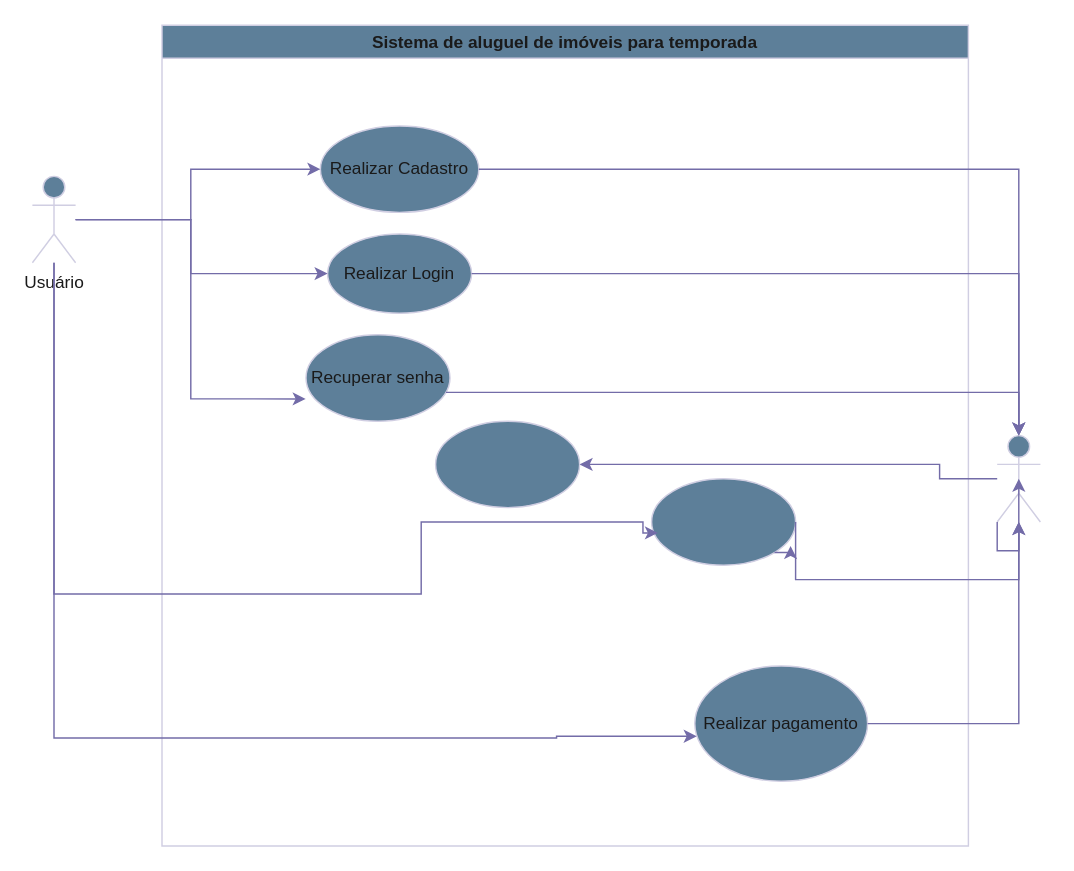
Image size: 1074x871. Some labels were removed from this diagram. The centre of each missing label's shape, as x and y in pixels:
"enviar email de recuperação de senha" belongs at (507,464).
"Reservar Imóvel" belongs at (723,521).
"Sistema" belongs at (1018,478).
